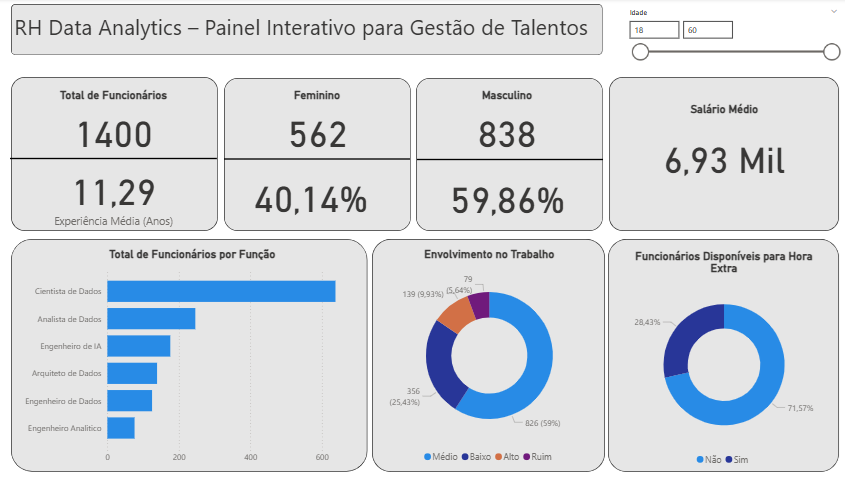

This screenshot's page, from the dashboard's own definition file:
{"tool":"powerbi","page":{"name":"Página 1","canvas":[1280,720],"ordinal":0},"visuals":[{"type":"card","title":"Total de Funcionários","fields":{"Values":["Medidas.TotalFunc"]},"box":[27.3,135.1,291.5,103.3],"z":0},{"type":"card","title":"Feminino","fields":{"Values":["Medidas.TotalFeminino"]},"box":[328,135.1,296.1,103.3],"z":1000},{"type":"card","title":"Masculino","fields":{"Values":["Medidas.TotalMasculino"]},"box":[616.5,135.1,287,103.3],"z":2000},{"type":"card","fields":{"Values":["Medidas.% Feminino"]},"box":[320.4,236.9,296.1,110.8],"z":3000},{"type":"card","fields":{"Values":["Medidas.% Masculino"]},"box":[616.5,238.4,287,110.8],"z":4000},{"type":"card","title":"Salário Médio","fields":{"Values":["Medidas.SalarioMedio"]},"box":[921.7,154.9,326.5,139.7],"z":5000},{"type":"card","fields":{"Values":["Avg(DatasetRH.Anos_Experiencia)"]},"box":[27.3,238.4,291.5,110.8],"z":6000},{"type":"barChart","title":"Total de Funcionários por Função","fields":{"Category":["DatasetRH.Funcao"],"Y":["Medidas.TotalFunc"]},"box":[28.8,372,523.8,332.5],"z":7000},{"type":"donutChart","title":"Funcionários Disponíveis para Hora Extra","fields":{"Category":["DatasetRH.Disponivel_Hora_Extra"],"Y":["Medidas.TotalFunc"]},"box":[912.7,374.9,343.6,333.1],"z":8000},{"type":"donutChart","title":"Envolvimento no Trabalho","fields":{"Y":["Medidas.TotalFunc"],"Category":["DatasetRH.Envolvimento_Trabalho"]},"box":[564.8,372,338.6,332.5],"z":9000},{"type":"shape","box":[912.7,118,343.6,230],"z":10000},{"type":"shape","box":[558.7,360,348,348],"z":11000},{"type":"slicer","fields":{"Values":["DatasetRH.Idade"]},"box":[930.8,10.6,335.6,92.6],"z":12000},{"type":"shape","box":[19.4,118,309.2,230],"z":13000},{"type":"shape","box":[337.6,119.5,279.3,228.5],"z":14000},{"type":"shape","box":[624.4,119.5,279.3,228.5],"z":15000},{"type":"shape","box":[911.2,360,345.1,348],"z":16000},{"type":"shape","box":[20,360,532.5,347.5],"z":17000},{"type":"shape","box":[625.9,131.5,277.8,219.6],"z":18000},{"type":"shape","box":[17.9,127,309.2,225.6],"z":19000},{"type":"shape","box":[337.6,130,277.8,221.1],"z":20000},{"type":"textbox","box":[19.7,15.2,876.1,83.5],"z":21000},{"type":"shape","box":[20,8.8,883.8,76.2],"z":22000}]}

Visuals, with their boxes in screenshot pixels (x1, y1, x2, y2), scaled from the page's 1280x720 canvas onto the 853x479 screenshot:
"Total de Funcionários" card: [18, 90, 212, 159]
"Feminino" card: [219, 90, 416, 159]
"Masculino" card: [411, 90, 602, 159]
card - Medidas.% Feminino: [214, 158, 411, 231]
card - Medidas.% Masculino: [411, 159, 602, 232]
"Salário Médio" card: [614, 103, 832, 196]
card - Avg(DatasetRH.Anos_Experiencia): [18, 159, 212, 232]
"Total de Funcionários por Função" barChart: [19, 247, 368, 469]
"Funcionários Disponíveis para Hora Extra" donutChart: [608, 249, 837, 471]
"Envolvimento no Trabalho" donutChart: [376, 247, 602, 469]
shape: [608, 79, 837, 232]
shape: [372, 240, 604, 471]
slicer - DatasetRH.Idade: [620, 7, 844, 69]
shape: [13, 79, 219, 232]
shape: [225, 80, 411, 232]
shape: [416, 80, 602, 232]
shape: [607, 240, 837, 471]
shape: [13, 240, 368, 471]
shape: [417, 87, 602, 234]
shape: [12, 84, 218, 235]
shape: [225, 86, 410, 234]
textbox: [13, 10, 597, 66]
shape: [13, 6, 602, 57]
